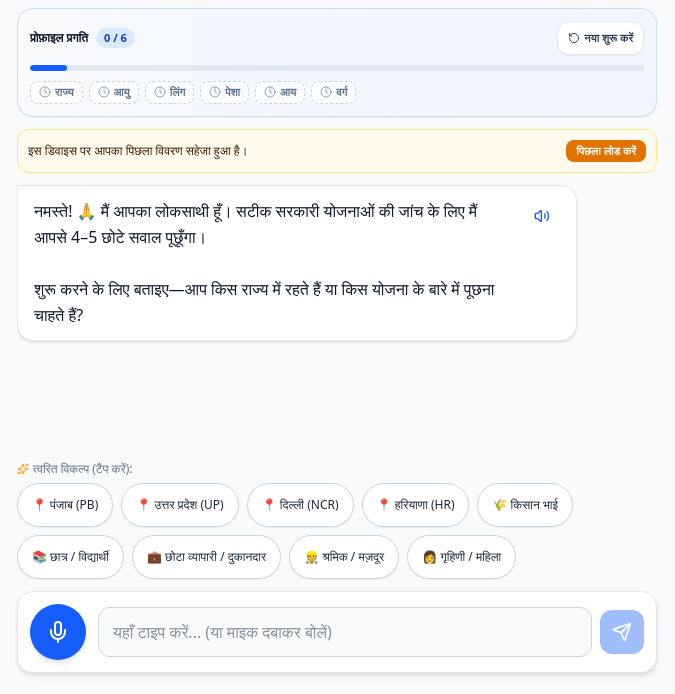
Test case: Phase 1 & 3: Multi-Turn Progressive Intake State Machine & Production Stability › Test Case F: VoiceInterview UI ignores polluted localStorage, shows Progress Bar + Reset button, and never dumps schemes on Turn 1 'Delhi NCR'
The width and height of the screenshot is (675, 694).
Check: the text "प्रोफ़ाइल प्रगति" is shown, box [30,30,88,46]
Check: the button "नया शुरू करें" is shown, box [557,21,644,55]
Click the button "📍 दिल्ली (NCR)". click: (300, 505)
box: [247,483,354,527]
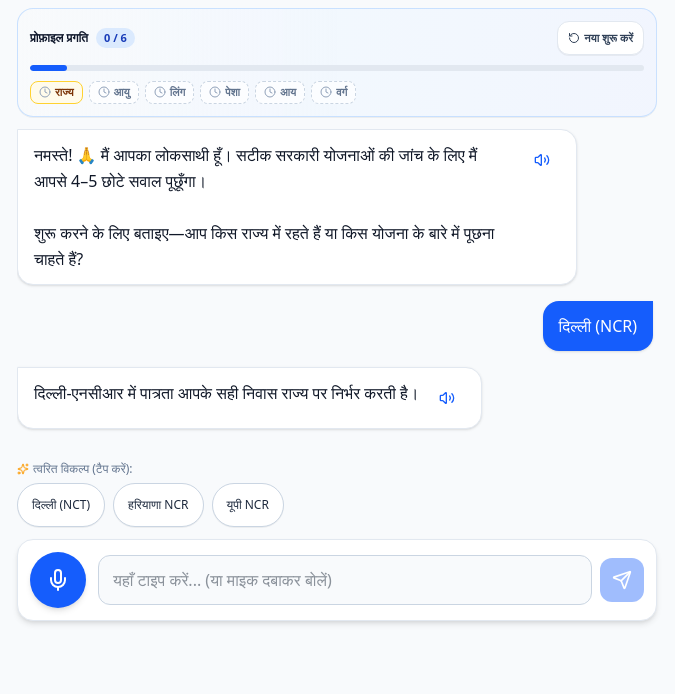
Check: the button "हरियाणा NCR" is shown, box [113,482,204,526]
